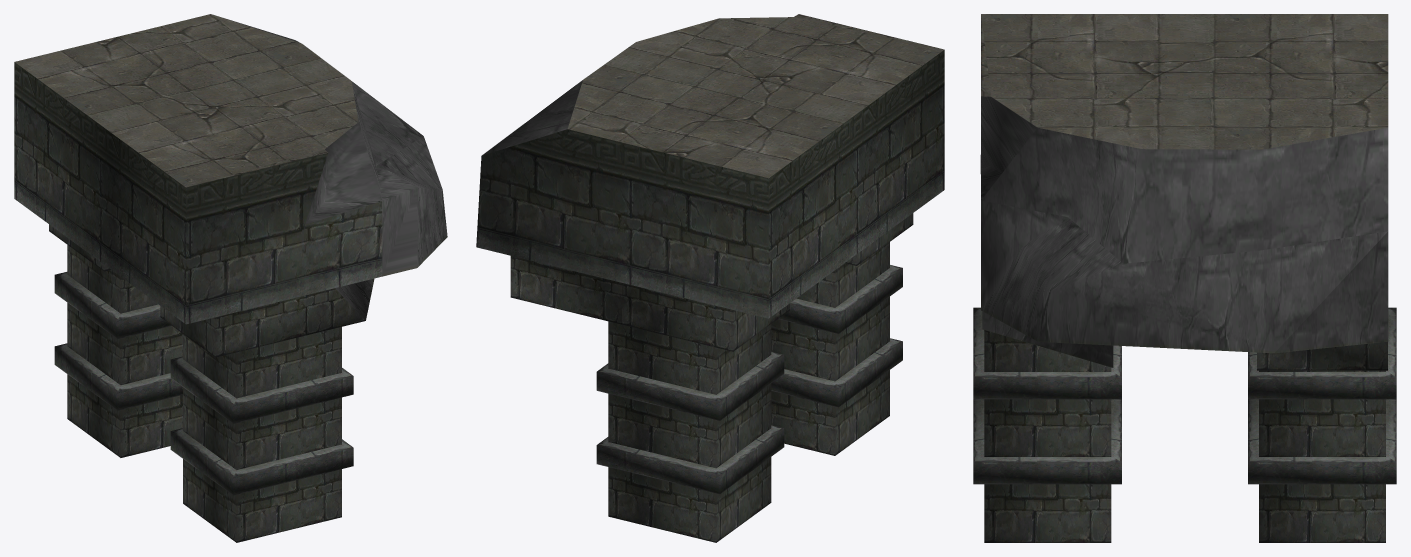
File: environment_Building_qiaoliang_005_f.FBX
3 views of the same model, side by side, from view 1: azimuth 30°, elevation 25°; view 2: azimuth 150°, elevation 25°; view 3: azimuth 270°, elevation 25° (orthographic). The views are drawn at different scales.
Parts seen in each view (by area): view 1: environment_Building_qiaoliang_005_f02, environment_Building_qiaoliang_005_f01, environment_Building_qiaoliang_005_f03; view 2: environment_Building_qiaoliang_005_f02, environment_Building_qiaoliang_005_f01, environment_Building_qiaoliang_005_f03; view 3: environment_Building_qiaoliang_005_f02, environment_Building_qiaoliang_005_f01, environment_Building_qiaoliang_005_f03.
Part boxes in pixels (bbox=[...]): environment_Building_qiaoliang_005_f02: bbox=[14, 16, 447, 324]; environment_Building_qiaoliang_005_f01: bbox=[49, 224, 374, 542]; environment_Building_qiaoliang_005_f03: bbox=[15, 14, 358, 187]; environment_Building_qiaoliang_005_f02: bbox=[476, 50, 944, 318]; environment_Building_qiaoliang_005_f01: bbox=[510, 213, 913, 542]; environment_Building_qiaoliang_005_f03: bbox=[567, 14, 944, 178]; environment_Building_qiaoliang_005_f02: bbox=[980, 96, 1388, 353]; environment_Building_qiaoliang_005_f01: bbox=[973, 307, 1396, 542]; environment_Building_qiaoliang_005_f03: bbox=[981, 14, 1388, 149].
Size of the model in its own units: 220 by 254 by 223.
